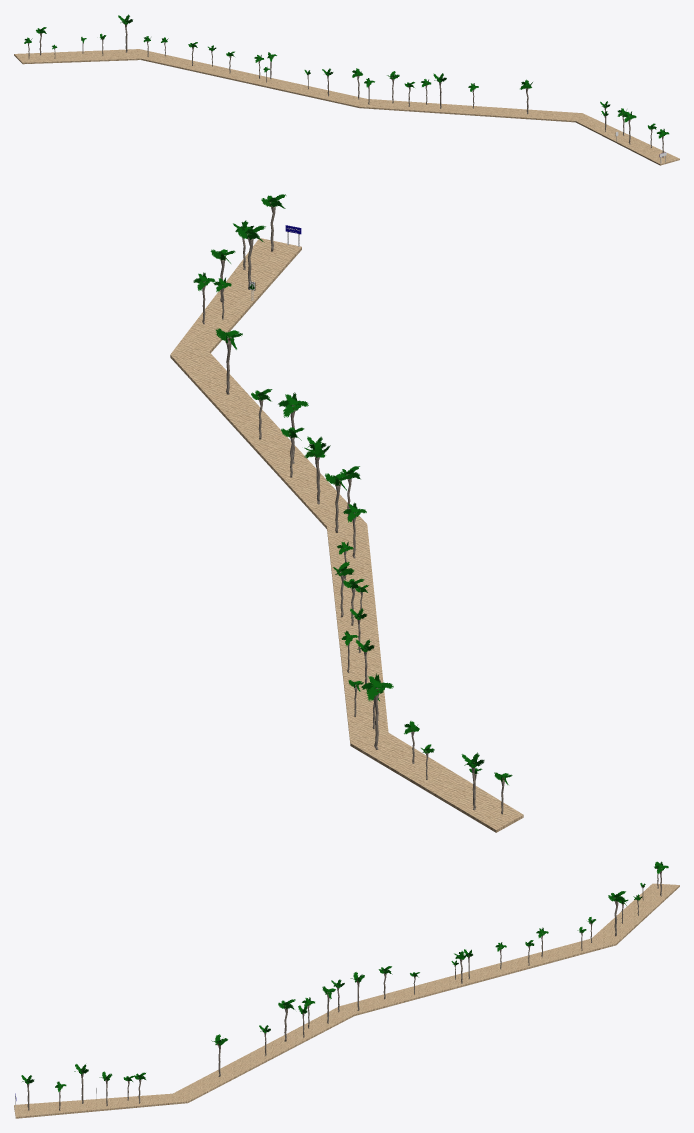
The model's file is Sandbar.glb.
3 renders of one model, top to bottom at view 1: azimuth 30°, elevation 25°; view 2: azimuth 150°, elevation 25°; view 3: azimuth 270°, elevation 25°, orthographic. The views are drawn at different scales.
Parts seen in each view (by area): view 1: Sand; view 2: Sand; view 3: Sand.
Boxes of the visible parts, x1,y1,x2,y2 form: Sand: (14, 49, 679, 165); Sand: (170, 238, 523, 832); Sand: (14, 883, 679, 1118).
Size of the model in its own units: 181 by 16.62 by 218.
12 materials, 3 textured.
